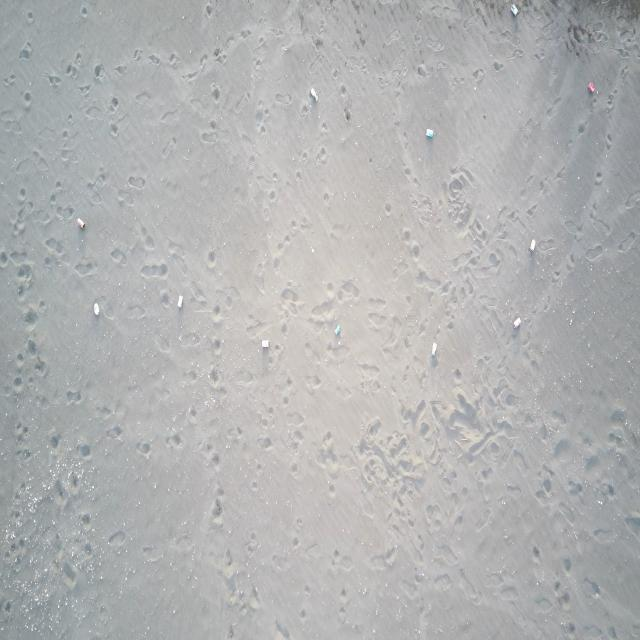tin-and-aluminum-cans: (509, 3, 518, 18), (76, 217, 86, 230), (310, 89, 319, 103), (426, 129, 435, 140), (588, 81, 595, 95), (93, 302, 100, 316), (431, 342, 438, 356), (334, 322, 340, 338), (530, 239, 537, 252), (261, 339, 270, 349), (514, 316, 521, 328), (177, 294, 183, 308)
